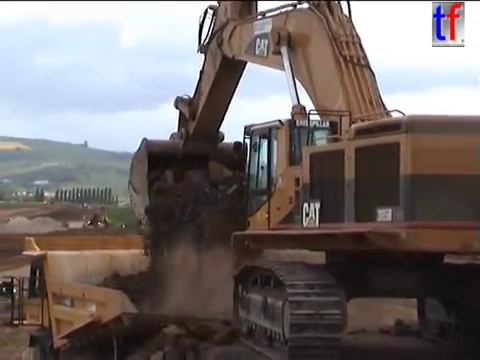excavator: (126, 1, 480, 360), (1, 234, 324, 360), (79, 206, 123, 234)
